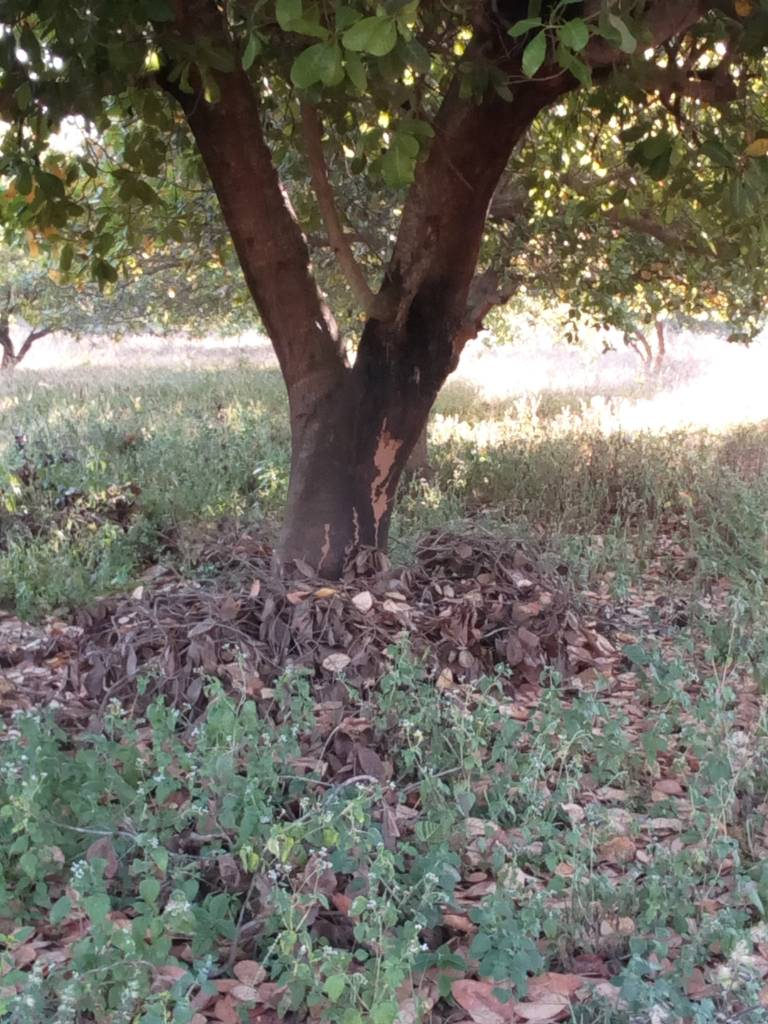Gommose: (350, 280, 461, 444)
